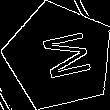M_W: (29, 29, 89, 85)
